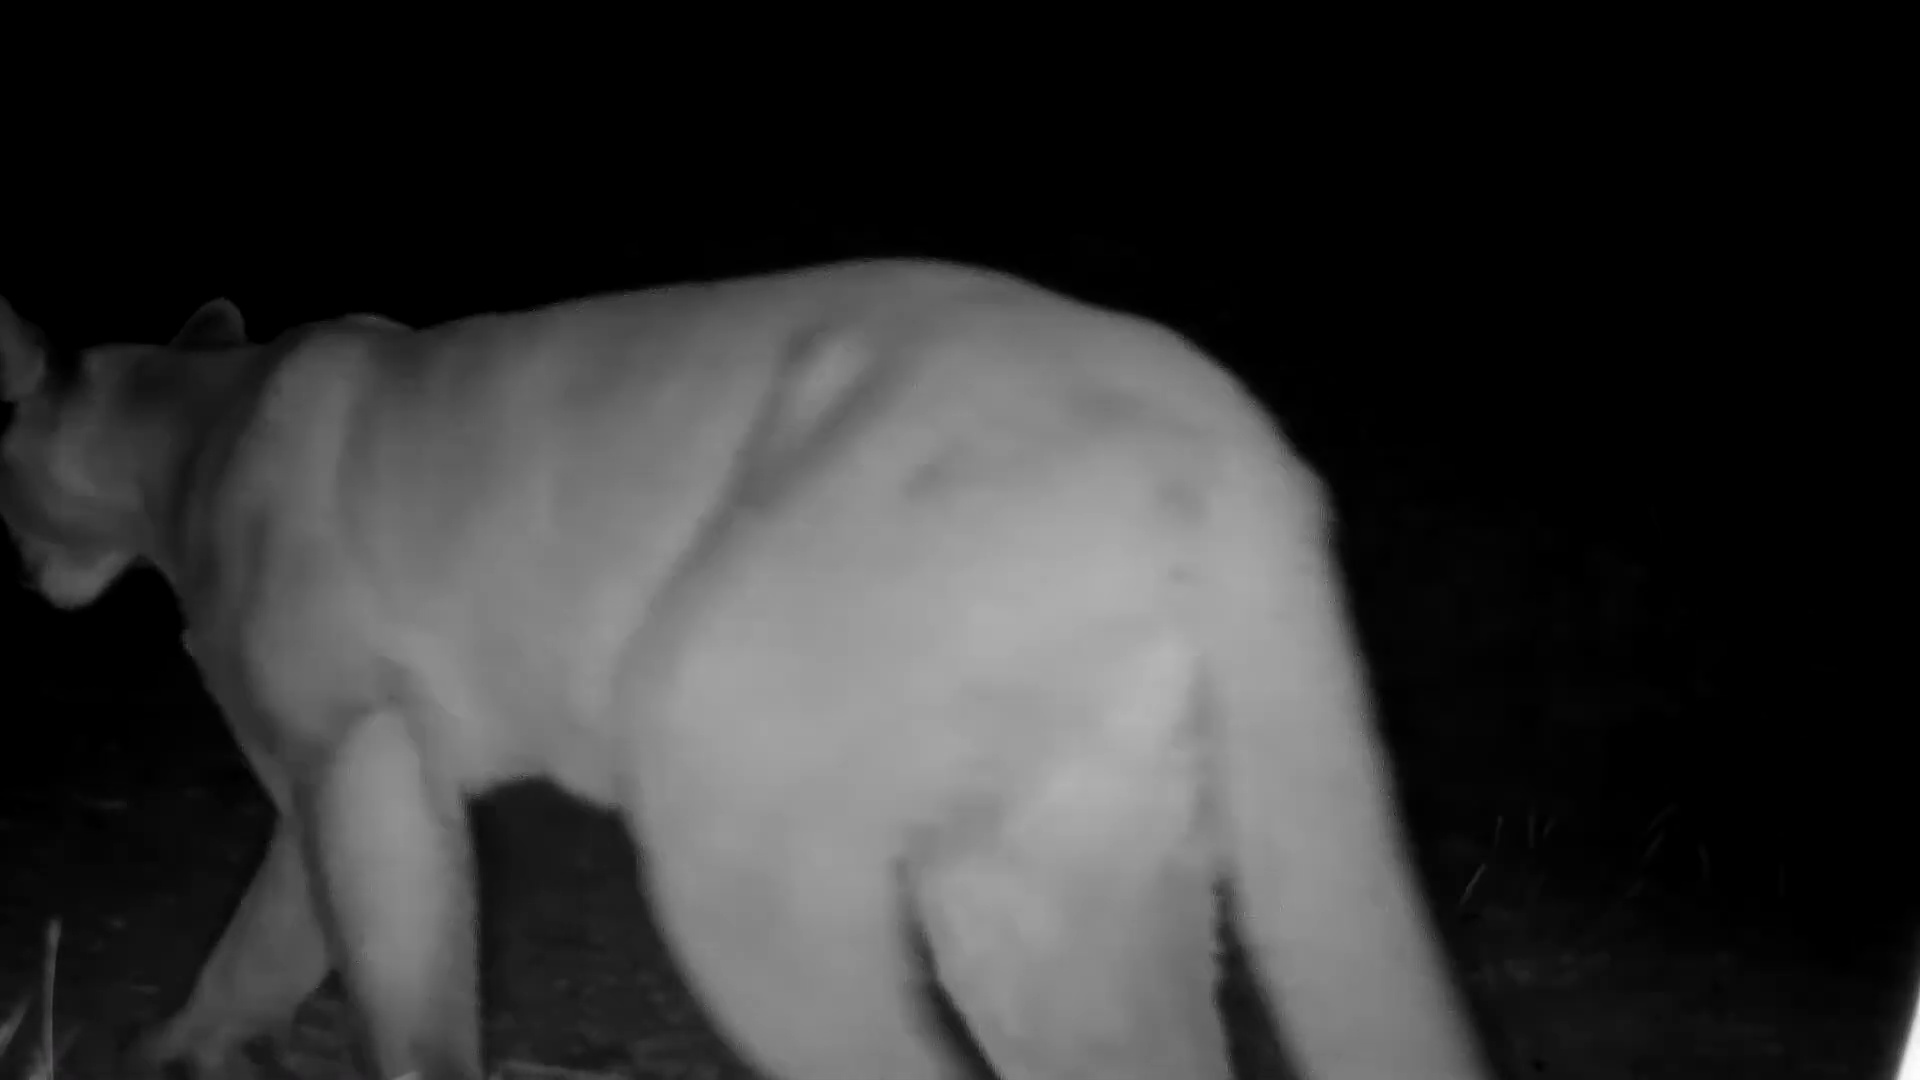Lion: (1, 255, 1487, 1080)
